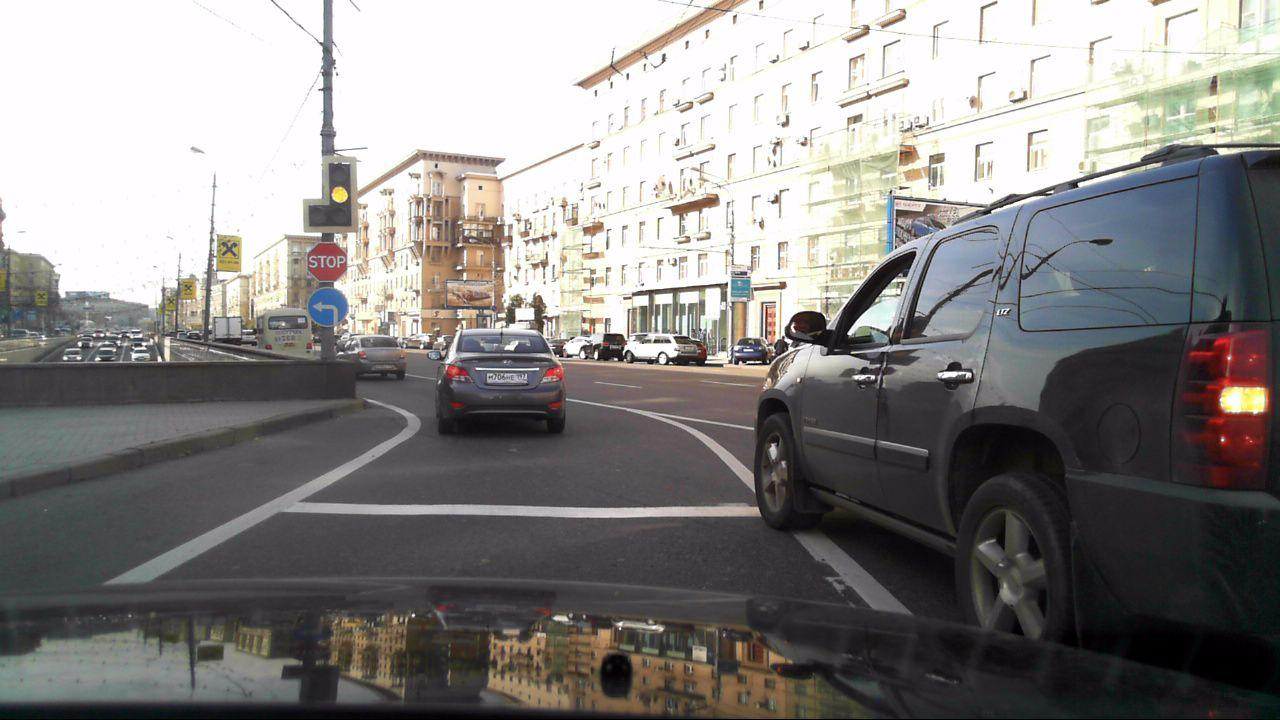2_5: (306, 241, 350, 281)
4_1_3: (307, 285, 350, 327)
